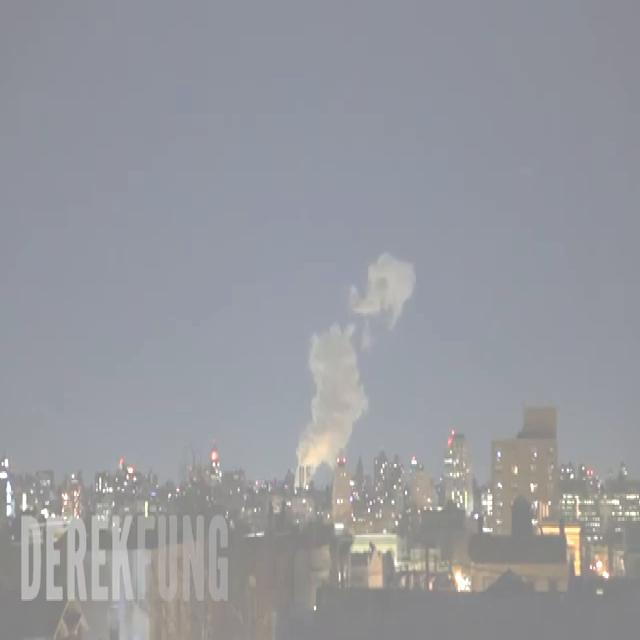smoke: (297, 254, 415, 468), (361, 324, 377, 351)
